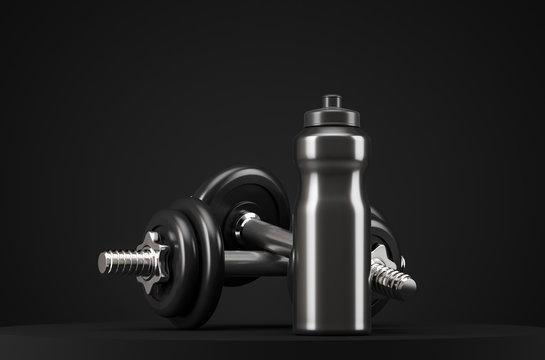gym bottle: (288, 94, 373, 337)
